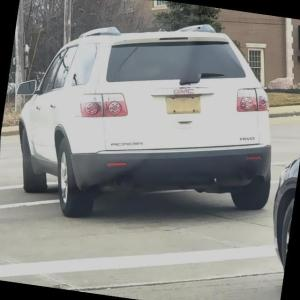Plate: (165, 94, 201, 113)
